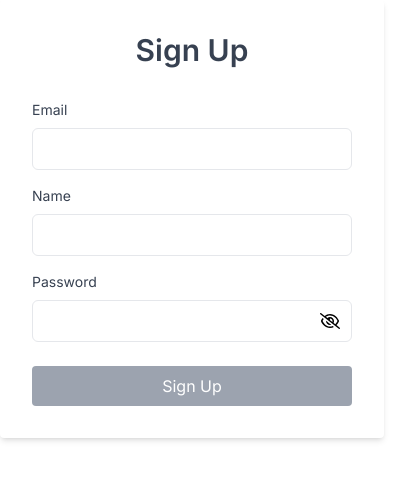
Test: Signupコンポーネント › 名前が21文字以上の場合、エラーメッセージが表示され、Signupボタンを押せないこと
Type "test@example.com" into the field labelled "Email". click: coordinates (192, 149)
box: top-left (32, 128), bottom-right (352, 170)
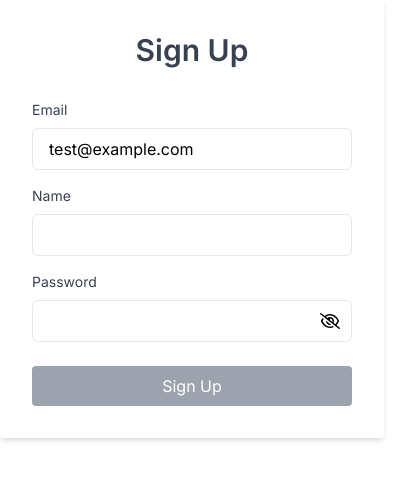
Type "abcdefghijklmnopqrstu" into the field labelled "Name". click: coordinates (192, 235)
box: top-left (32, 214), bottom-right (352, 256)
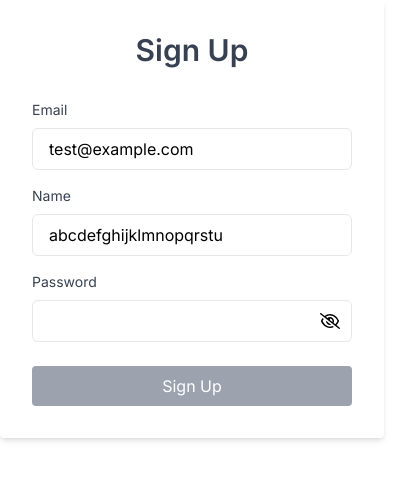
Type "password123" into the password field labelled "Password". click: coordinates (192, 321)
box: top-left (32, 300), bottom-right (352, 342)
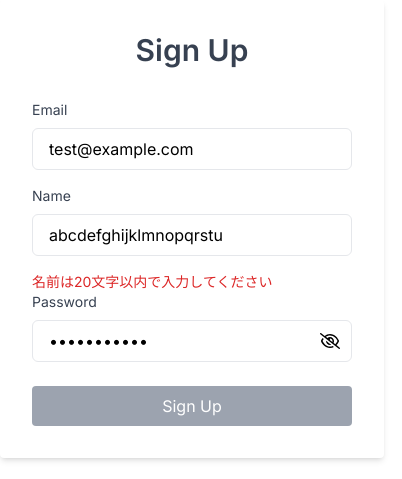
expect the button "Sign Up" is disabled: met, box top-left (32, 386), bottom-right (352, 426)
expect the text "名前は20文字以内で入力してください" is shown: met, box top-left (32, 273), bottom-right (272, 290)
